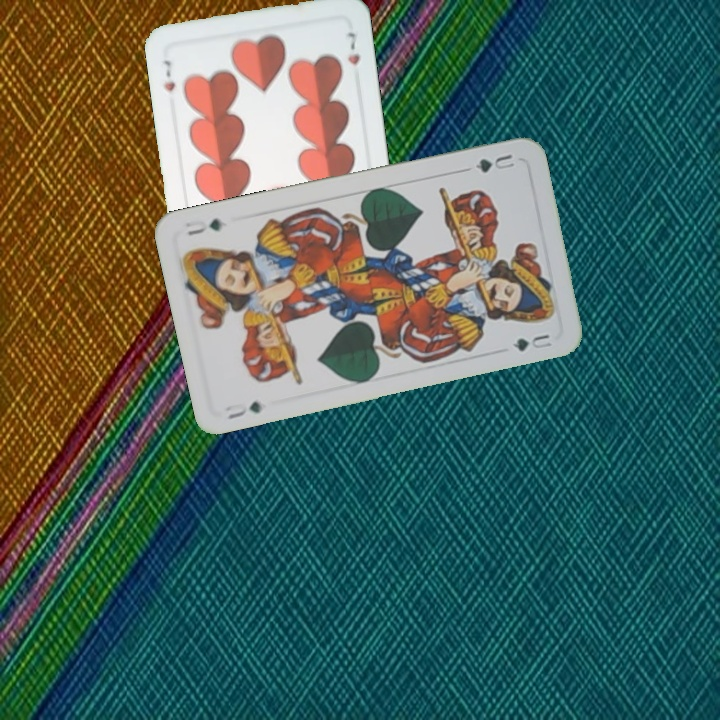GU: (471, 150, 517, 176), (221, 397, 264, 422)
H7: (160, 56, 178, 95)
